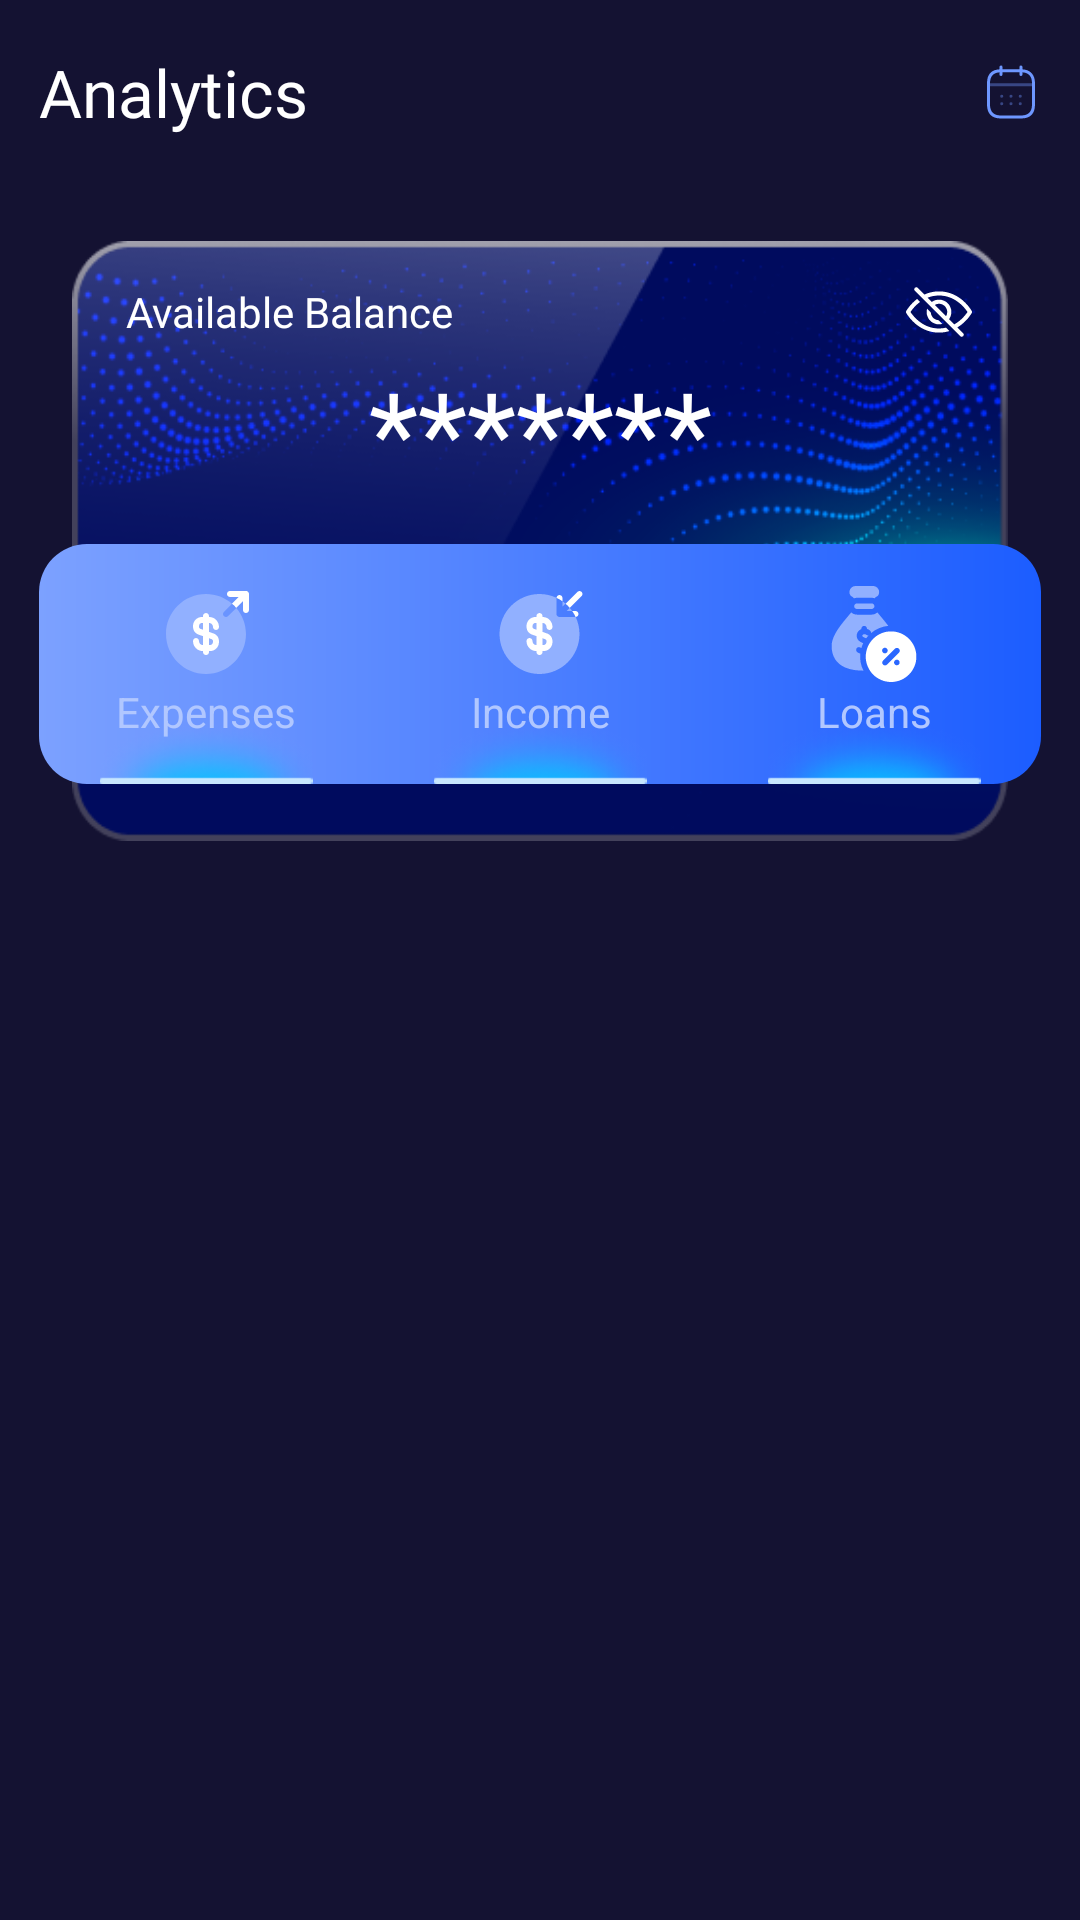

Icons on this 1080px x 1920px Android screen, each with its box as (x1, y1, x2, y2):
calendar: (987, 65, 1035, 119)
